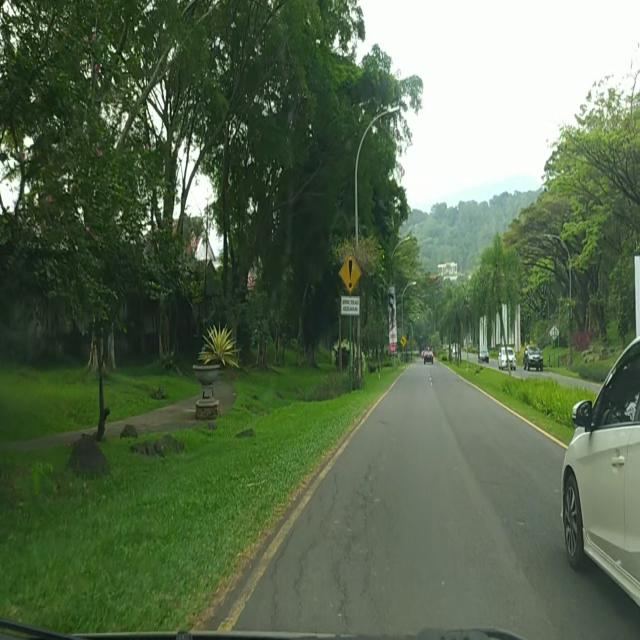Drain Hole: (270, 461, 400, 615)
